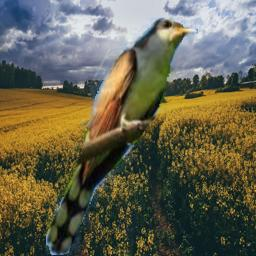Cuckoo: (46, 17, 198, 255)
